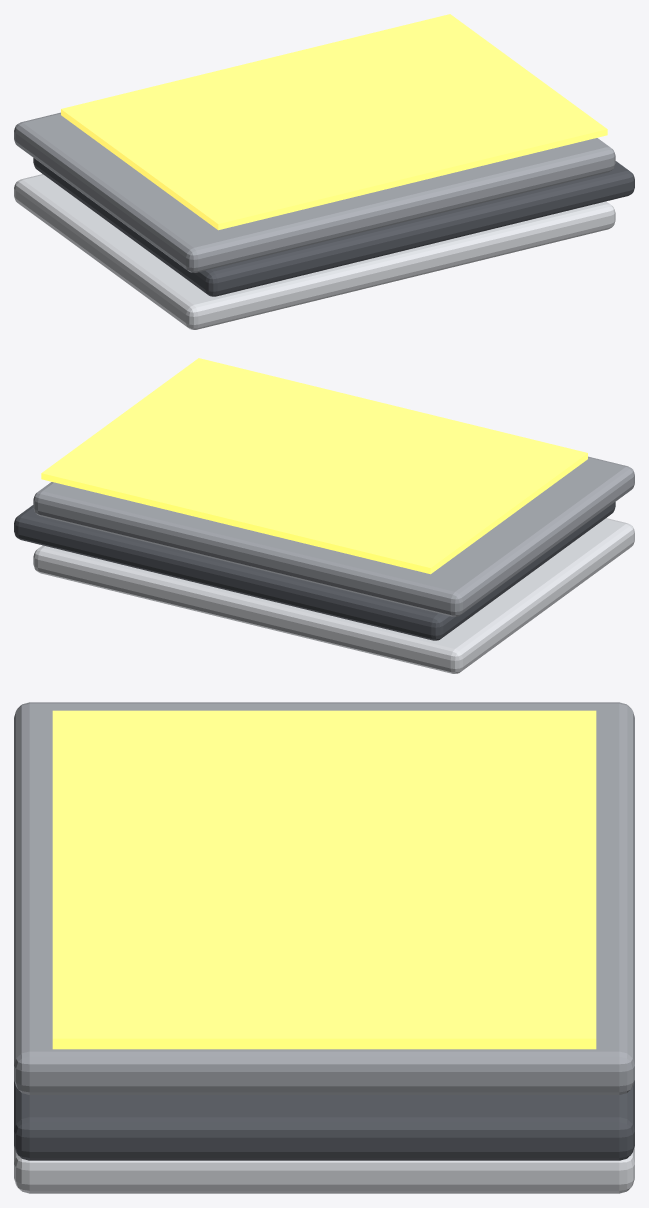
The model's file is datapad_stack.glb.
The picture shows the model from 3 angles, top to bottom: view 1: azimuth 30°, elevation 25°; view 2: azimuth 150°, elevation 25°; view 3: azimuth 270°, elevation 25°; orthographic projection. The views are drawn at different scales.
Parts seen in each view (by area): view 1: GD_datapad_stack__m3, GD_datapad_stack__m2, GD_datapad_stack__m0, GD_datapad_stack__m1; view 2: GD_datapad_stack__m3, GD_datapad_stack__m2, GD_datapad_stack__m0, GD_datapad_stack__m1; view 3: GD_datapad_stack__m3, GD_datapad_stack__m2, GD_datapad_stack__m1, GD_datapad_stack__m0.
Boxes of the visible parts, x1=… form: GD_datapad_stack__m3: x1=61, y1=14, x2=607, y2=230; GD_datapad_stack__m2: x1=14, y1=112, x2=615, y2=272; GD_datapad_stack__m0: x1=14, y1=174, x2=615, y2=329; GD_datapad_stack__m1: x1=33, y1=158, x2=634, y2=296; GD_datapad_stack__m3: x1=41, y1=358, x2=587, y2=574; GD_datapad_stack__m2: x1=33, y1=456, x2=634, y2=616; GD_datapad_stack__m0: x1=33, y1=518, x2=634, y2=673; GD_datapad_stack__m1: x1=14, y1=502, x2=615, y2=640; GD_datapad_stack__m3: x1=52, y1=710, x2=596, y2=1049; GD_datapad_stack__m2: x1=14, y1=702, x2=634, y2=1094; GD_datapad_stack__m1: x1=14, y1=1080, x2=634, y2=1160; GD_datapad_stack__m0: x1=14, y1=1146, x2=634, y2=1193.
Bounding box in the file's own units: 0.23 × 0.0455 × 0.16.
